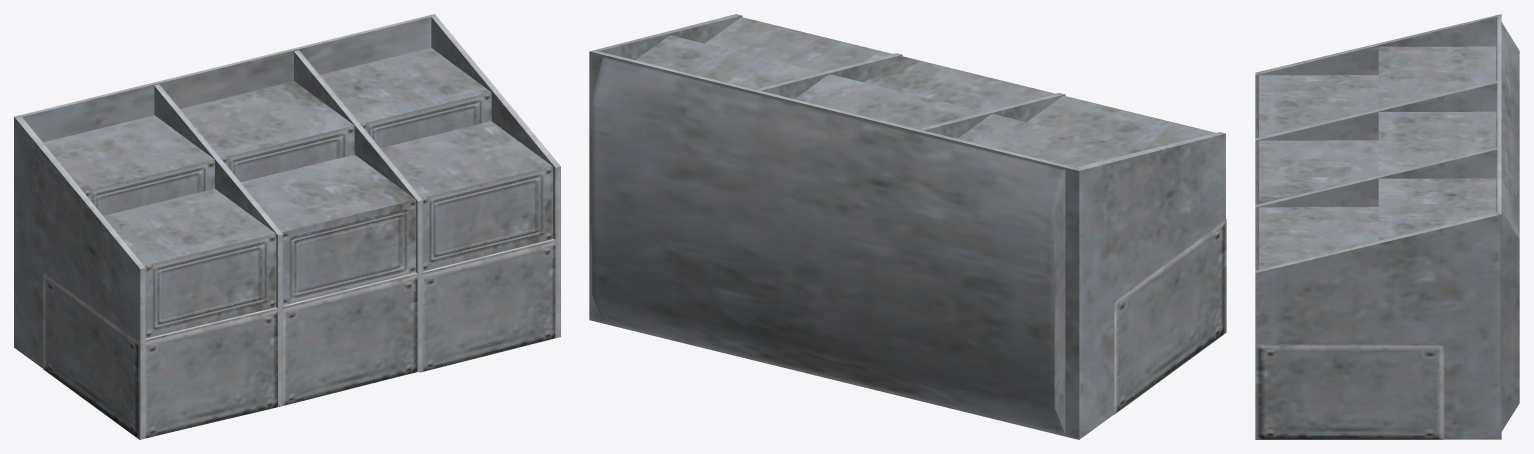
File: edb_con_spice_container_l0.fbx
3 renders of one model, left to right at view 1: azimuth 30°, elevation 25°; view 2: azimuth 150°, elevation 25°; view 3: azimuth 270°, elevation 25°, orthographic. The views are drawn at different scales.
Visible parts, largest first — view 1: mesh_node; view 2: mesh_node; view 3: mesh_node.
Boxes of the visible parts, x1,y1,x2,y2 form: mesh_node: (14, 14, 560, 439); mesh_node: (589, 14, 1226, 439); mesh_node: (1255, 14, 1519, 439).
Bounding box in the file's own units: 0.4002 × 0.2106 × 0.2226.
